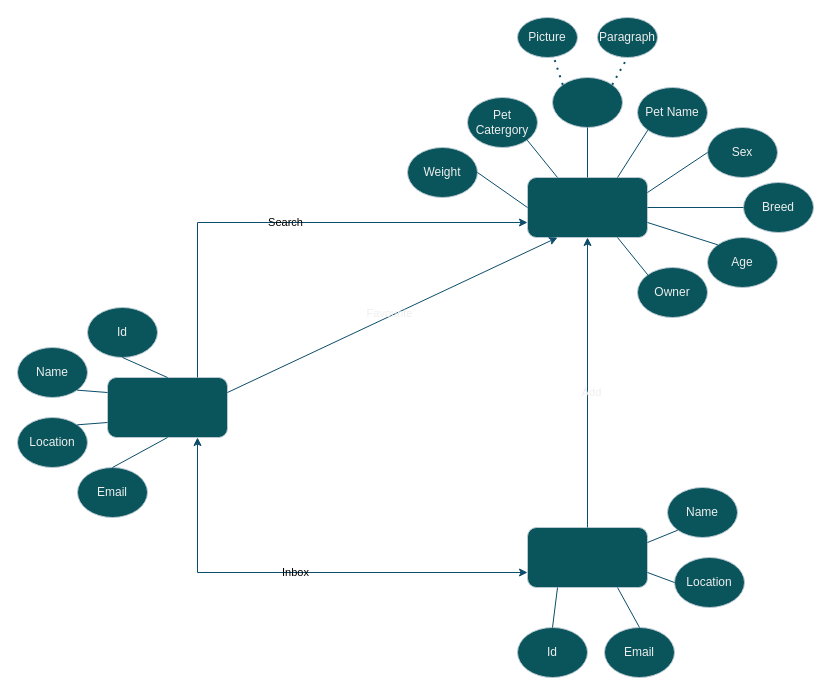
Some shapes in this 831 by 695 pixel diagram are drawn without their labels. Here are the shapes that lost their labels. From the top down, the centre of each, then its label:
At point (587, 102): "Pet Description".
At point (587, 207): "Pet".
At point (167, 407): "User (Adopter)".
At point (587, 557): "User (Giver)".
